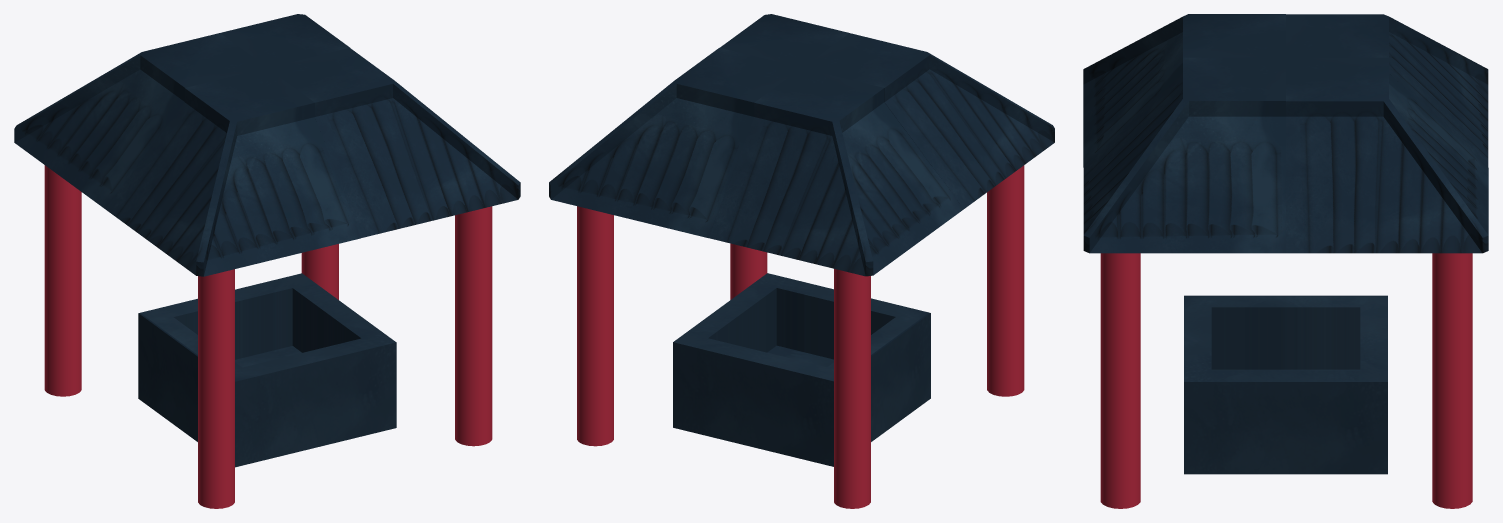
Rendered from Portal dark.fbx.
3 renders of one model, left to right at view 1: azimuth 30°, elevation 25°; view 2: azimuth 150°, elevation 25°; view 3: azimuth 270°, elevation 25°, orthographic. The views are drawn at different scales.
Visible parts, largest first — view 1: Plane068; view 2: Plane068; view 3: Plane068.
Boxes of the visible parts, box(x1,y1,x2,y2) form: Plane068: box(14, 14, 520, 508); Plane068: box(549, 14, 1054, 508); Plane068: box(1083, 14, 1488, 508).
Bounding box in the file's own units: 37.04 × 37.76 × 37.07.
Materials: 3 (3 with a texture image).
